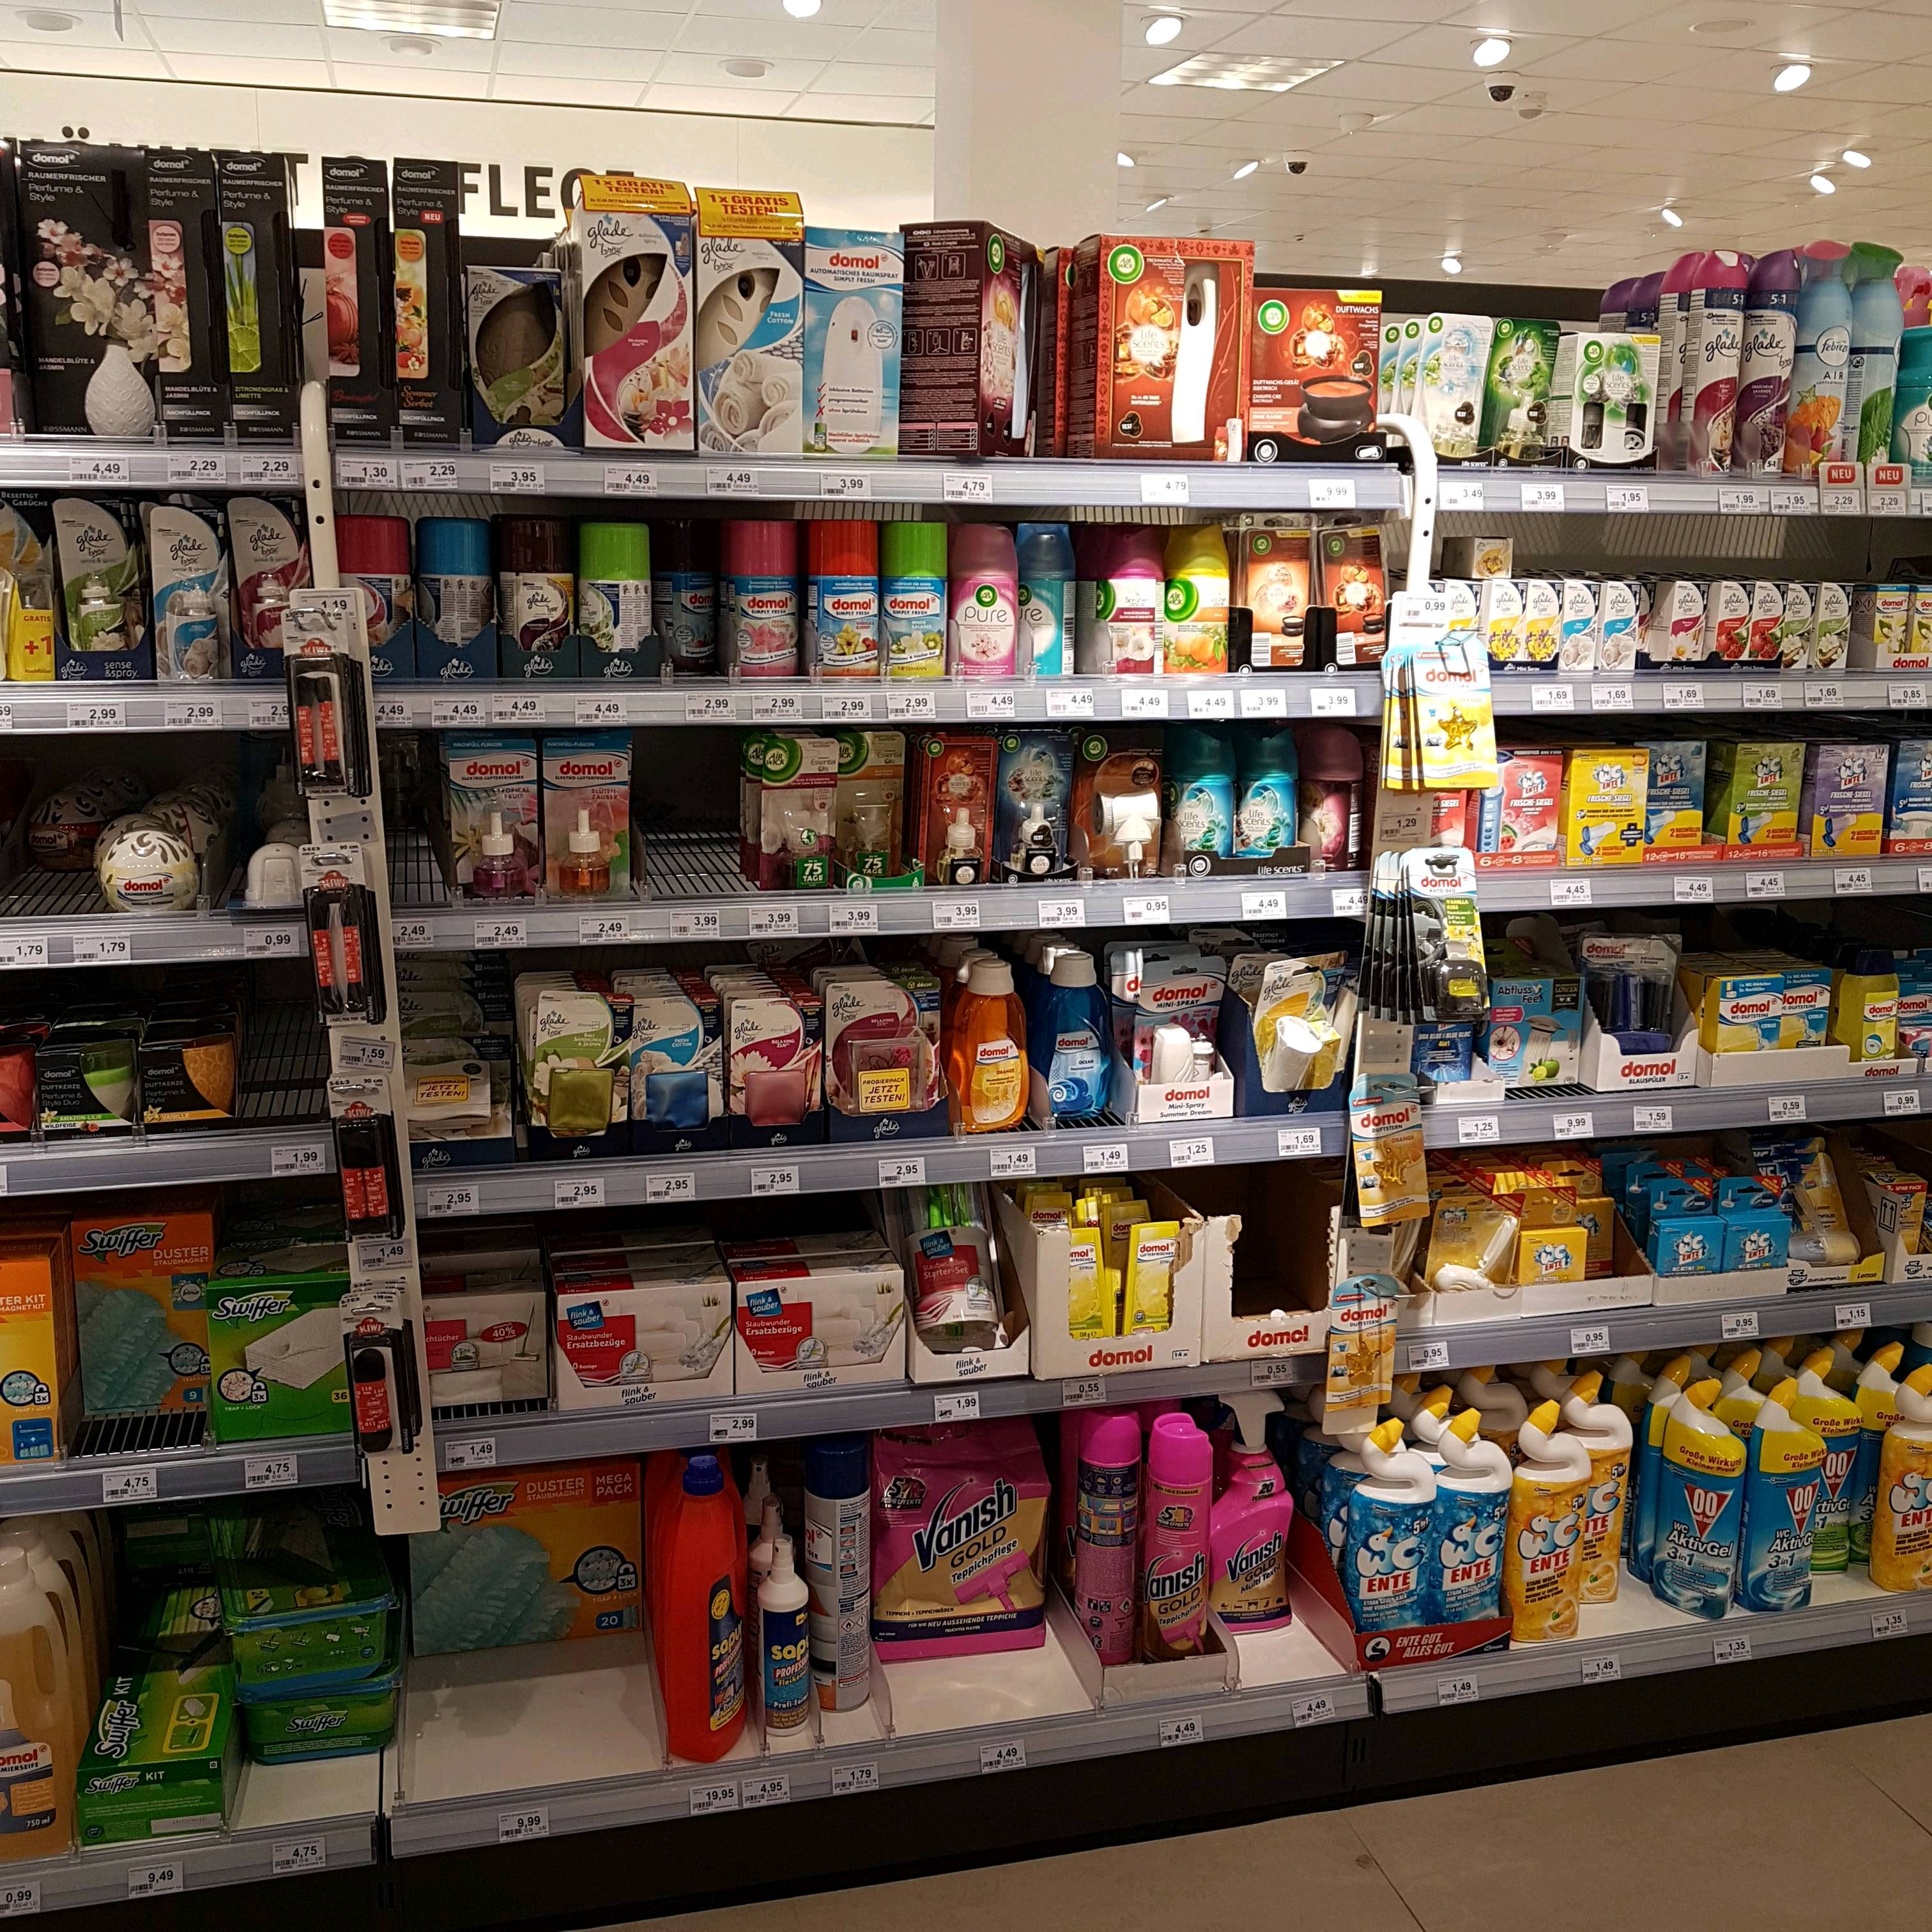Misplacement: (389, 1453, 671, 1817), (860, 1435, 1079, 1748), (1198, 1385, 1346, 1695), (1569, 1362, 1697, 1642), (414, 1258, 563, 1435), (663, 527, 741, 699), (1500, 984, 1596, 1118)
Out-of-stock: (637, 727, 755, 920), (235, 964, 315, 1185)
